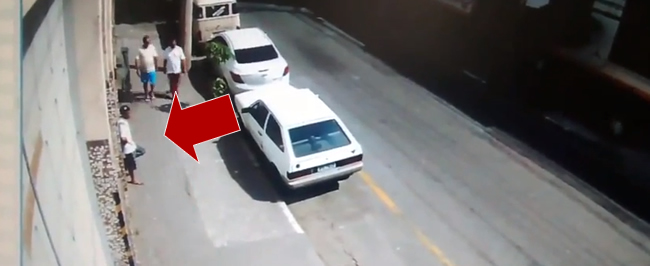Humano: (111, 99, 147, 188), (161, 35, 193, 100), (133, 27, 160, 99)
